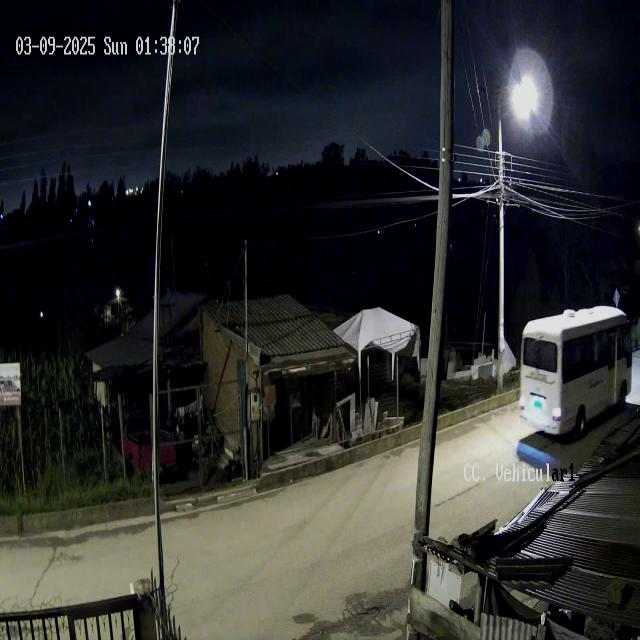BUS: (522, 307, 634, 447)
